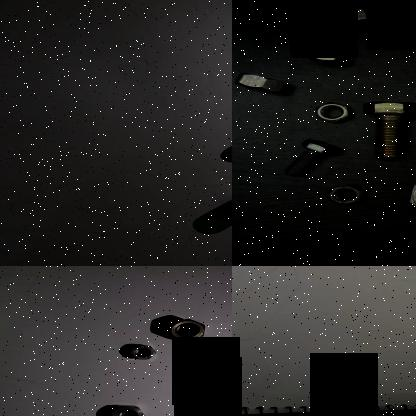Bolts: (359, 95, 416, 166), (280, 134, 340, 184), (393, 172, 416, 220)
NUTS: (304, 98, 358, 132), (232, 67, 293, 97), (315, 178, 369, 211), (294, 48, 360, 74), (163, 318, 211, 344), (119, 344, 158, 364), (106, 403, 150, 416), (222, 199, 232, 221)
